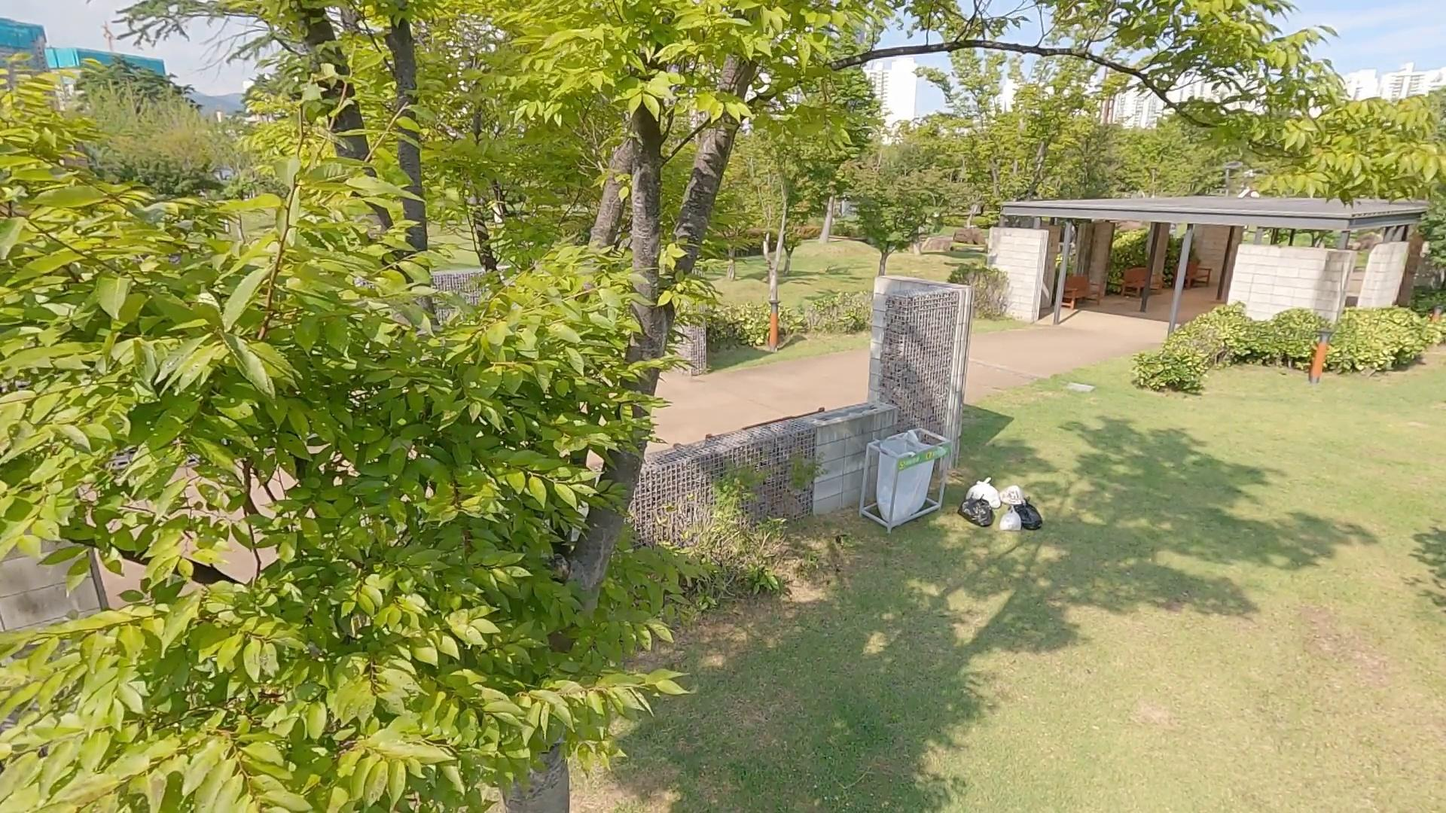trash: (955, 490, 998, 532), (1007, 492, 1043, 535), (962, 476, 1001, 508), (996, 482, 1033, 506), (996, 506, 1025, 530)
